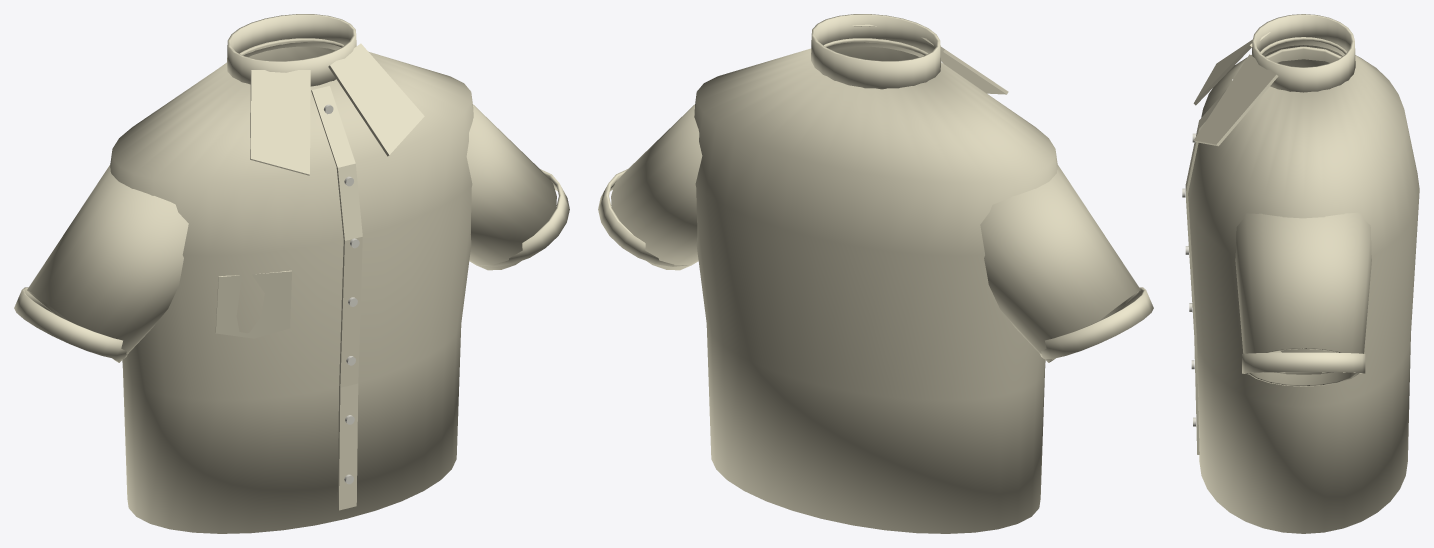
The model's file is shirt_casual_short_sleeve.glb.
The picture shows the model from 3 angles, left to right: view 1: azimuth 30°, elevation 25°; view 2: azimuth 150°, elevation 25°; view 3: azimuth 270°, elevation 25°; orthographic projection. The views are drawn at different scales.
Visible parts, largest first — view 1: Casual_Short_Sleeve_Shirt_Open_Body, Casual_Short_Sleeve_Shirt_Short_Sleeve, Casual_Short_Sleeve_Shirt_Short_Sleeve.001, Casual_Short_Sleeve_Shirt_Button_Placket, Casual_Short_Sleeve_Shirt_Pointed_Collar, Casual_Short_Sleeve_Shirt_Standing_Collar, Casual_Short_Sleeve_Shirt_Pointed_Collar.001, Casual_Short_Sleeve_Shirt_Chest_Pocket, Casual_Short_Sleeve_Shirt_Short_Hem, Casual_Short_Sleeve_Shirt_Short_Hem.001; view 2: Casual_Short_Sleeve_Shirt_Open_Body, Casual_Short_Sleeve_Shirt_Short_Sleeve, Casual_Short_Sleeve_Shirt_Short_Sleeve.001, Casual_Short_Sleeve_Shirt_Standing_Collar, Casual_Short_Sleeve_Shirt_Short_Hem, Casual_Short_Sleeve_Shirt_Short_Hem.001, Casual_Short_Sleeve_Shirt_Pointed_Collar; view 3: Casual_Short_Sleeve_Shirt_Open_Body, Casual_Short_Sleeve_Shirt_Short_Sleeve.001, Casual_Short_Sleeve_Shirt_Standing_Collar, Casual_Short_Sleeve_Shirt_Pointed_Collar.001, Casual_Short_Sleeve_Shirt_Short_Hem.001, Casual_Short_Sleeve_Shirt_Button_Placket, Casual_Short_Sleeve_Shirt_Pointed_Collar, Casual_Short_Sleeve_Shirt_Short_Sleeve.
Part boxes in pixels (x1=…): Casual_Short_Sleeve_Shirt_Open_Body: x1=110, y1=38, x2=473, y2=533; Casual_Short_Sleeve_Shirt_Short_Sleeve: x1=27, y1=165, x2=188, y2=362; Casual_Short_Sleeve_Shirt_Short_Sleeve.001: x1=466, y1=104, x2=556, y2=270; Casual_Short_Sleeve_Shirt_Button_Placket: x1=311, y1=86, x2=362, y2=510; Casual_Short_Sleeve_Shirt_Pointed_Collar: x1=250, y1=70, x2=310, y2=175; Casual_Short_Sleeve_Shirt_Standing_Collar: x1=227, y1=14, x2=356, y2=86; Casual_Short_Sleeve_Shirt_Pointed_Collar.001: x1=328, y1=43, x2=424, y2=156; Casual_Short_Sleeve_Shirt_Chest_Pocket: x1=215, y1=270, x2=291, y2=338; Casual_Short_Sleeve_Shirt_Short_Hem: x1=14, y1=287, x2=127, y2=359; Casual_Short_Sleeve_Shirt_Short_Hem.001: x1=479, y1=169, x2=569, y2=266; Casual_Short_Sleeve_Shirt_Open_Body: x1=694, y1=38, x2=1057, y2=533; Casual_Short_Sleeve_Shirt_Short_Sleeve: x1=980, y1=165, x2=1140, y2=362; Casual_Short_Sleeve_Shirt_Short_Sleeve.001: x1=611, y1=104, x2=702, y2=270; Casual_Short_Sleeve_Shirt_Standing_Collar: x1=811, y1=14, x2=940, y2=89; Casual_Short_Sleeve_Shirt_Short_Hem: x1=1040, y1=287, x2=1153, y2=359; Casual_Short_Sleeve_Shirt_Short_Hem.001: x1=598, y1=169, x2=688, y2=266; Casual_Short_Sleeve_Shirt_Pointed_Collar: x1=921, y1=37, x2=1008, y2=94; Casual_Short_Sleeve_Shirt_Open_Body: x1=1188, y1=37, x2=1419, y2=533; Casual_Short_Sleeve_Shirt_Short_Sleeve.001: x1=1235, y1=212, x2=1371, y2=386; Casual_Short_Sleeve_Shirt_Standing_Collar: x1=1252, y1=14, x2=1355, y2=92; Casual_Short_Sleeve_Shirt_Pointed_Collar.001: x1=1193, y1=54, x2=1278, y2=146; Casual_Short_Sleeve_Shirt_Short_Hem.001: x1=1242, y1=352, x2=1365, y2=374; Casual_Short_Sleeve_Shirt_Button_Placket: x1=1185, y1=89, x2=1226, y2=454; Casual_Short_Sleeve_Shirt_Pointed_Collar: x1=1193, y1=32, x2=1270, y2=105; Casual_Short_Sleeve_Shirt_Short_Sleeve: x1=1265, y1=46, x2=1341, y2=62.
Size of the model in its own units: 0.7468 by 0.5871 by 0.3007.
